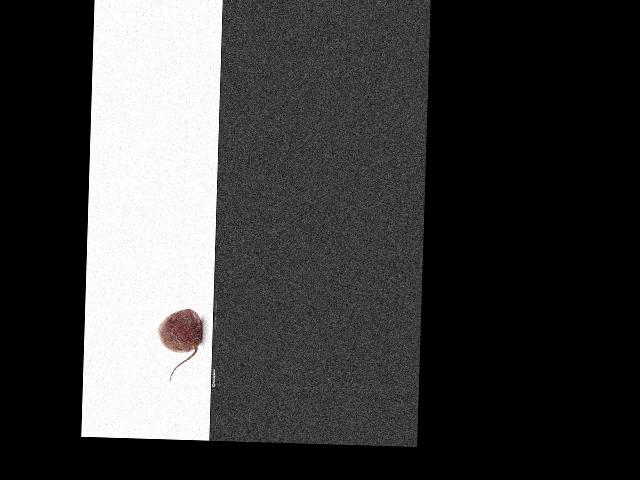beet: (157, 307, 203, 381)
